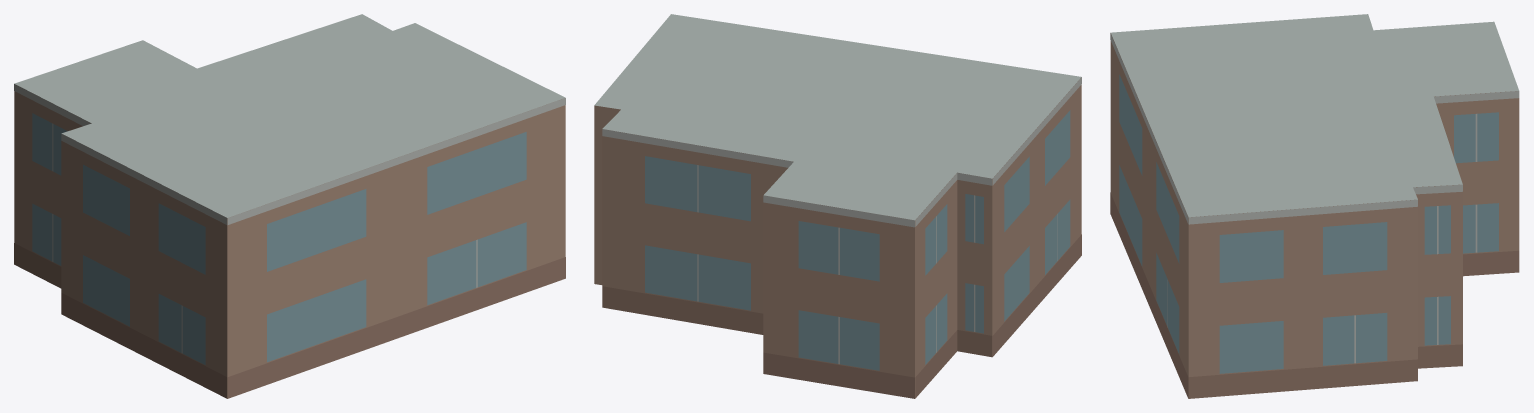
The model's file is survey-upis-32827631.glb.
The picture shows the model from 3 angles, left to right: view 1: azimuth 30°, elevation 25°; view 2: azimuth 150°, elevation 25°; view 3: azimuth 270°, elevation 25°; orthographic projection.
Visible parts, largest first — view 1: survey-upis-32827631.tmp; view 2: survey-upis-32827631.tmp; view 3: survey-upis-32827631.tmp.
Boxes of the visible parts, bbox=[...] form: survey-upis-32827631.tmp: bbox=[14, 14, 565, 398]; survey-upis-32827631.tmp: bbox=[594, 14, 1081, 398]; survey-upis-32827631.tmp: bbox=[1110, 14, 1519, 398].
Bounding box in the file's own units: 14.66 × 6.1 × 12.46.
